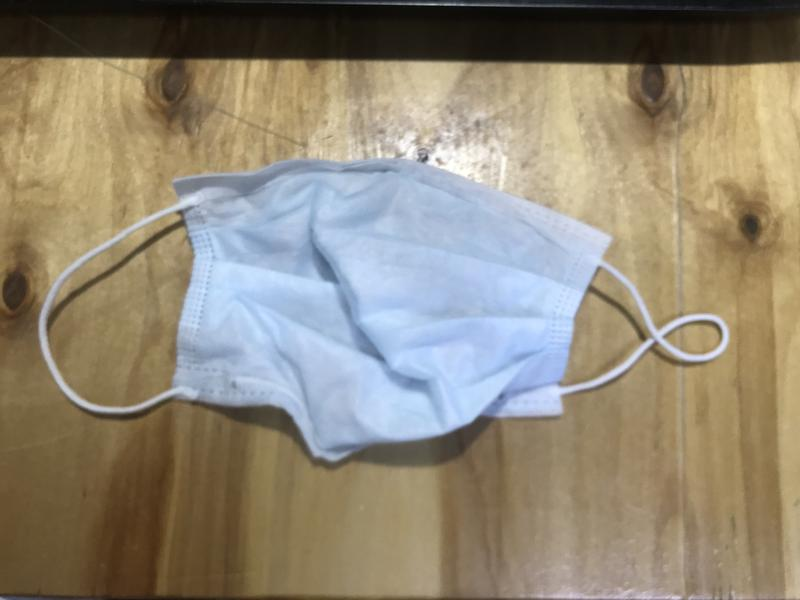medical_mask: (40, 158, 729, 466)
